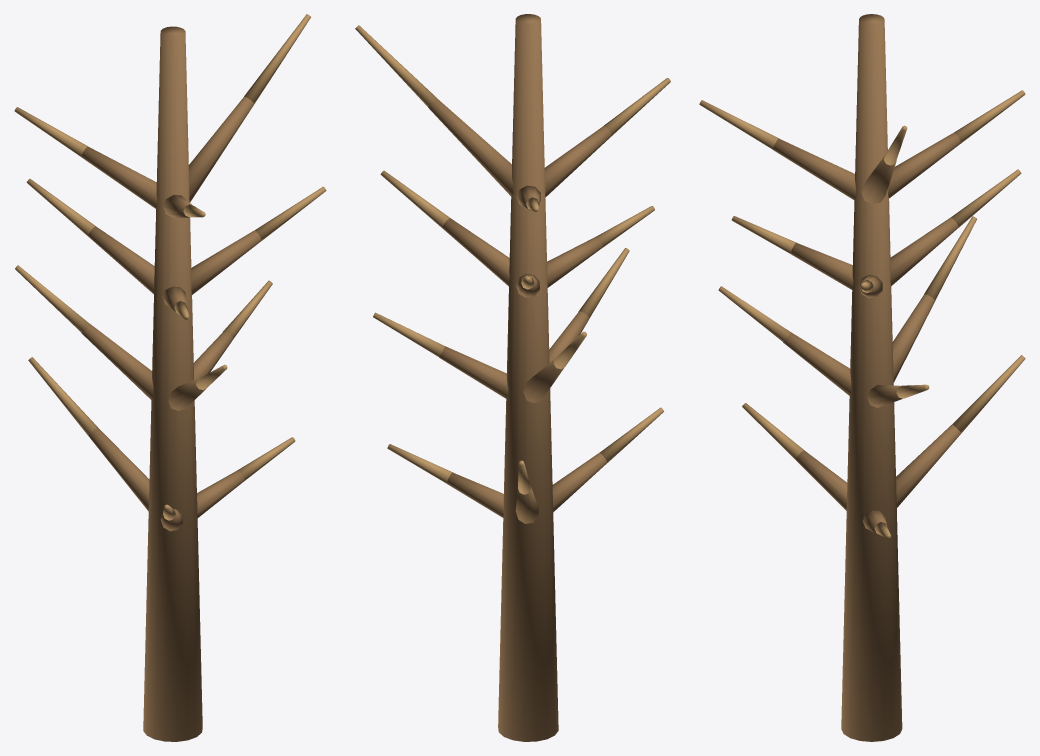
Rendered from dry_sapling_b.glb.
3 views of the same model, side by side, from view 1: azimuth 30°, elevation 25°; view 2: azimuth 150°, elevation 25°; view 3: azimuth 270°, elevation 25° (orthographic).
Parts seen in each view (by area): view 1: dry_sapling_b_trunk, dry_sapling_b_branch_3_0_a, dry_sapling_b_branch_1_1_a, dry_sapling_b_branch_3_1_a, dry_sapling_b_branch_0_1_a, dry_sapling_b_branch_2_0_a, dry_sapling_b_branch_2_1_a, dry_sapling_b_branch_3_0_b, dry_sapling_b_branch_0_0_a, dry_sapling_b_branch_0_1_b, dry_sapling_b_branch_1_1_b, dry_sapling_b_branch_1_0_a (+6 smaller); view 2: dry_sapling_b_trunk, dry_sapling_b_branch_3_0_a, dry_sapling_b_branch_3_2_a, dry_sapling_b_branch_2_0_a, dry_sapling_b_branch_1_0_a, dry_sapling_b_branch_0_2_a, dry_sapling_b_branch_2_2_a, dry_sapling_b_branch_0_0_a, dry_sapling_b_branch_3_0_b, dry_sapling_b_branch_1_1_a, dry_sapling_b_branch_2_0_b, dry_sapling_b_branch_3_2_b (+7 smaller); view 3: dry_sapling_b_trunk, dry_sapling_b_branch_3_2_a, dry_sapling_b_branch_0_1_a, dry_sapling_b_branch_3_1_a, dry_sapling_b_branch_2_1_a, dry_sapling_b_branch_1_2_a, dry_sapling_b_branch_1_1_a, dry_sapling_b_branch_2_2_a, dry_sapling_b_branch_0_2_a, dry_sapling_b_branch_0_1_b, dry_sapling_b_branch_3_0_a, dry_sapling_b_branch_1_1_b (+7 smaller).
Boxes of the visible parts, x1,y1,x2,y2 form: dry_sapling_b_trunk: (143, 26, 202, 741); dry_sapling_b_branch_3_0_a: (189, 96, 254, 202); dry_sapling_b_branch_1_1_a: (81, 323, 153, 399); dry_sapling_b_branch_3_1_a: (81, 146, 157, 208); dry_sapling_b_branch_0_1_a: (88, 427, 149, 511); dry_sapling_b_branch_2_0_a: (191, 230, 261, 294); dry_sapling_b_branch_2_1_a: (88, 226, 154, 293); dry_sapling_b_branch_3_0_b: (244, 14, 310, 103); dry_sapling_b_branch_0_0_a: (197, 470, 244, 517); dry_sapling_b_branch_0_1_b: (28, 357, 97, 435); dry_sapling_b_branch_1_1_b: (15, 265, 89, 332); dry_sapling_b_branch_1_0_a: (193, 331, 232, 379); dry_sapling_b_trunk: (498, 14, 558, 741); dry_sapling_b_branch_3_0_a: (428, 98, 513, 196); dry_sapling_b_branch_3_2_a: (544, 126, 611, 197); dry_sapling_b_branch_2_0_a: (442, 218, 509, 286); dry_sapling_b_branch_1_0_a: (439, 346, 508, 398); dry_sapling_b_branch_0_2_a: (552, 453, 607, 511); dry_sapling_b_branch_2_2_a: (547, 237, 602, 287); dry_sapling_b_branch_0_0_a: (447, 472, 503, 517); dry_sapling_b_branch_3_0_b: (355, 25, 436, 106); dry_sapling_b_branch_1_1_a: (523, 360, 564, 403); dry_sapling_b_branch_2_0_b: (380, 170, 450, 228); dry_sapling_b_branch_3_2_b: (604, 78, 670, 135); dry_sapling_b_trunk: (841, 14, 902, 741); dry_sapling_b_branch_3_2_a: (773, 138, 856, 200); dry_sapling_b_branch_0_1_a: (896, 424, 961, 507); dry_sapling_b_branch_3_1_a: (888, 133, 960, 198); dry_sapling_b_branch_2_1_a: (890, 217, 958, 285); dry_sapling_b_branch_1_2_a: (783, 332, 851, 395); dry_sapling_b_branch_1_1_a: (892, 294, 934, 382); dry_sapling_b_branch_2_2_a: (791, 242, 853, 289); dry_sapling_b_branch_0_2_a: (796, 450, 847, 510); dry_sapling_b_branch_0_1_b: (952, 355, 1025, 432); dry_sapling_b_branch_3_0_a: (861, 155, 896, 204); dry_sapling_b_branch_1_1_b: (924, 216, 976, 300).
Bounding box in the file's own units: 0.553 × 1.41 × 0.588.
